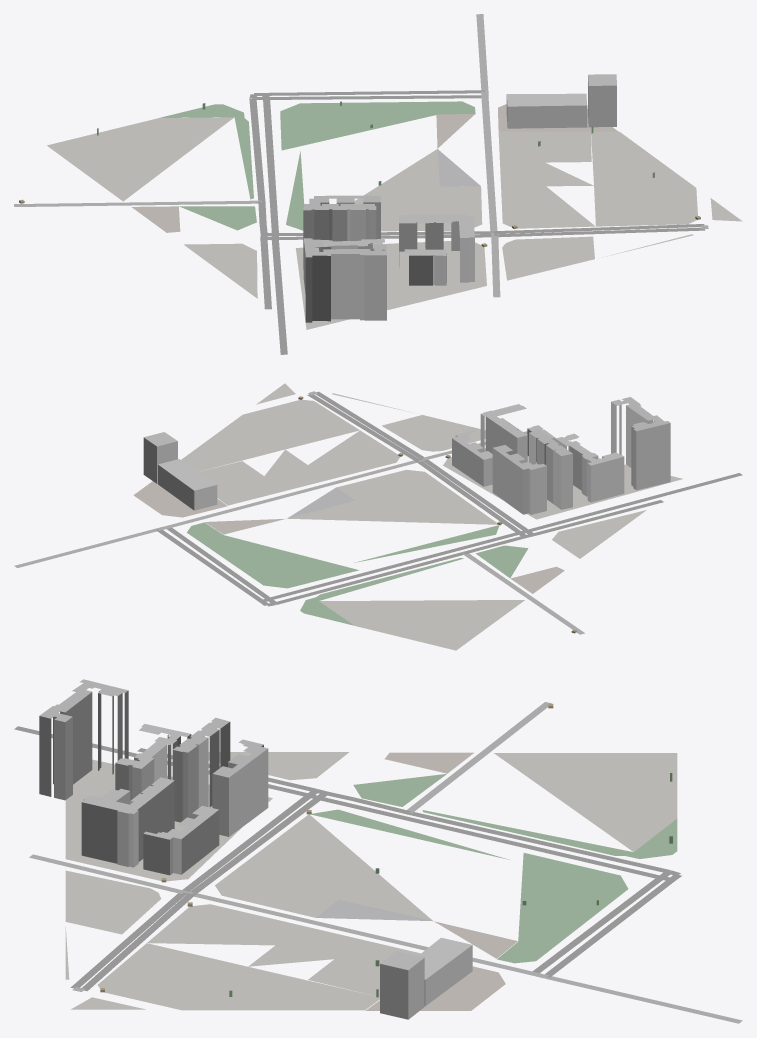
3 views of the same model, one above another, from view 1: azimuth 30°, elevation 25°; view 2: azimuth 150°, elevation 25°; view 3: azimuth 270°, elevation 25° (orthographic). The views are drawn at different scales.
Size of the model in its own units: 621 by 72.89 by 596.
